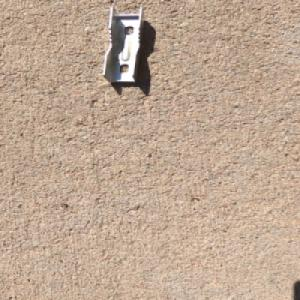ClampPart: (100, 5, 150, 86)
